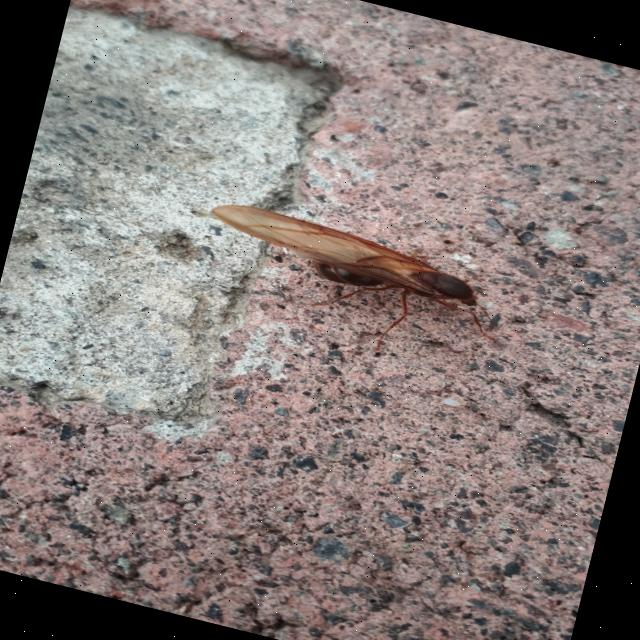Alive-Male-Alate: (189, 196, 512, 374)
